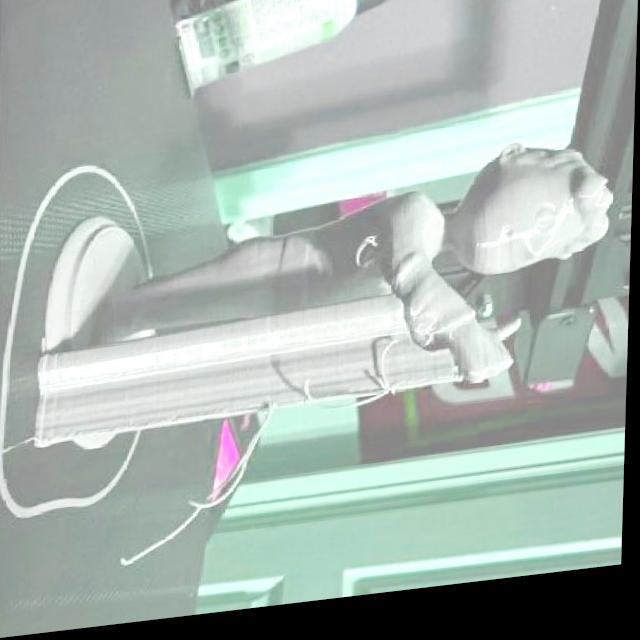spaghetti: (192, 408, 277, 514), (305, 347, 402, 422), (357, 242, 383, 280)
